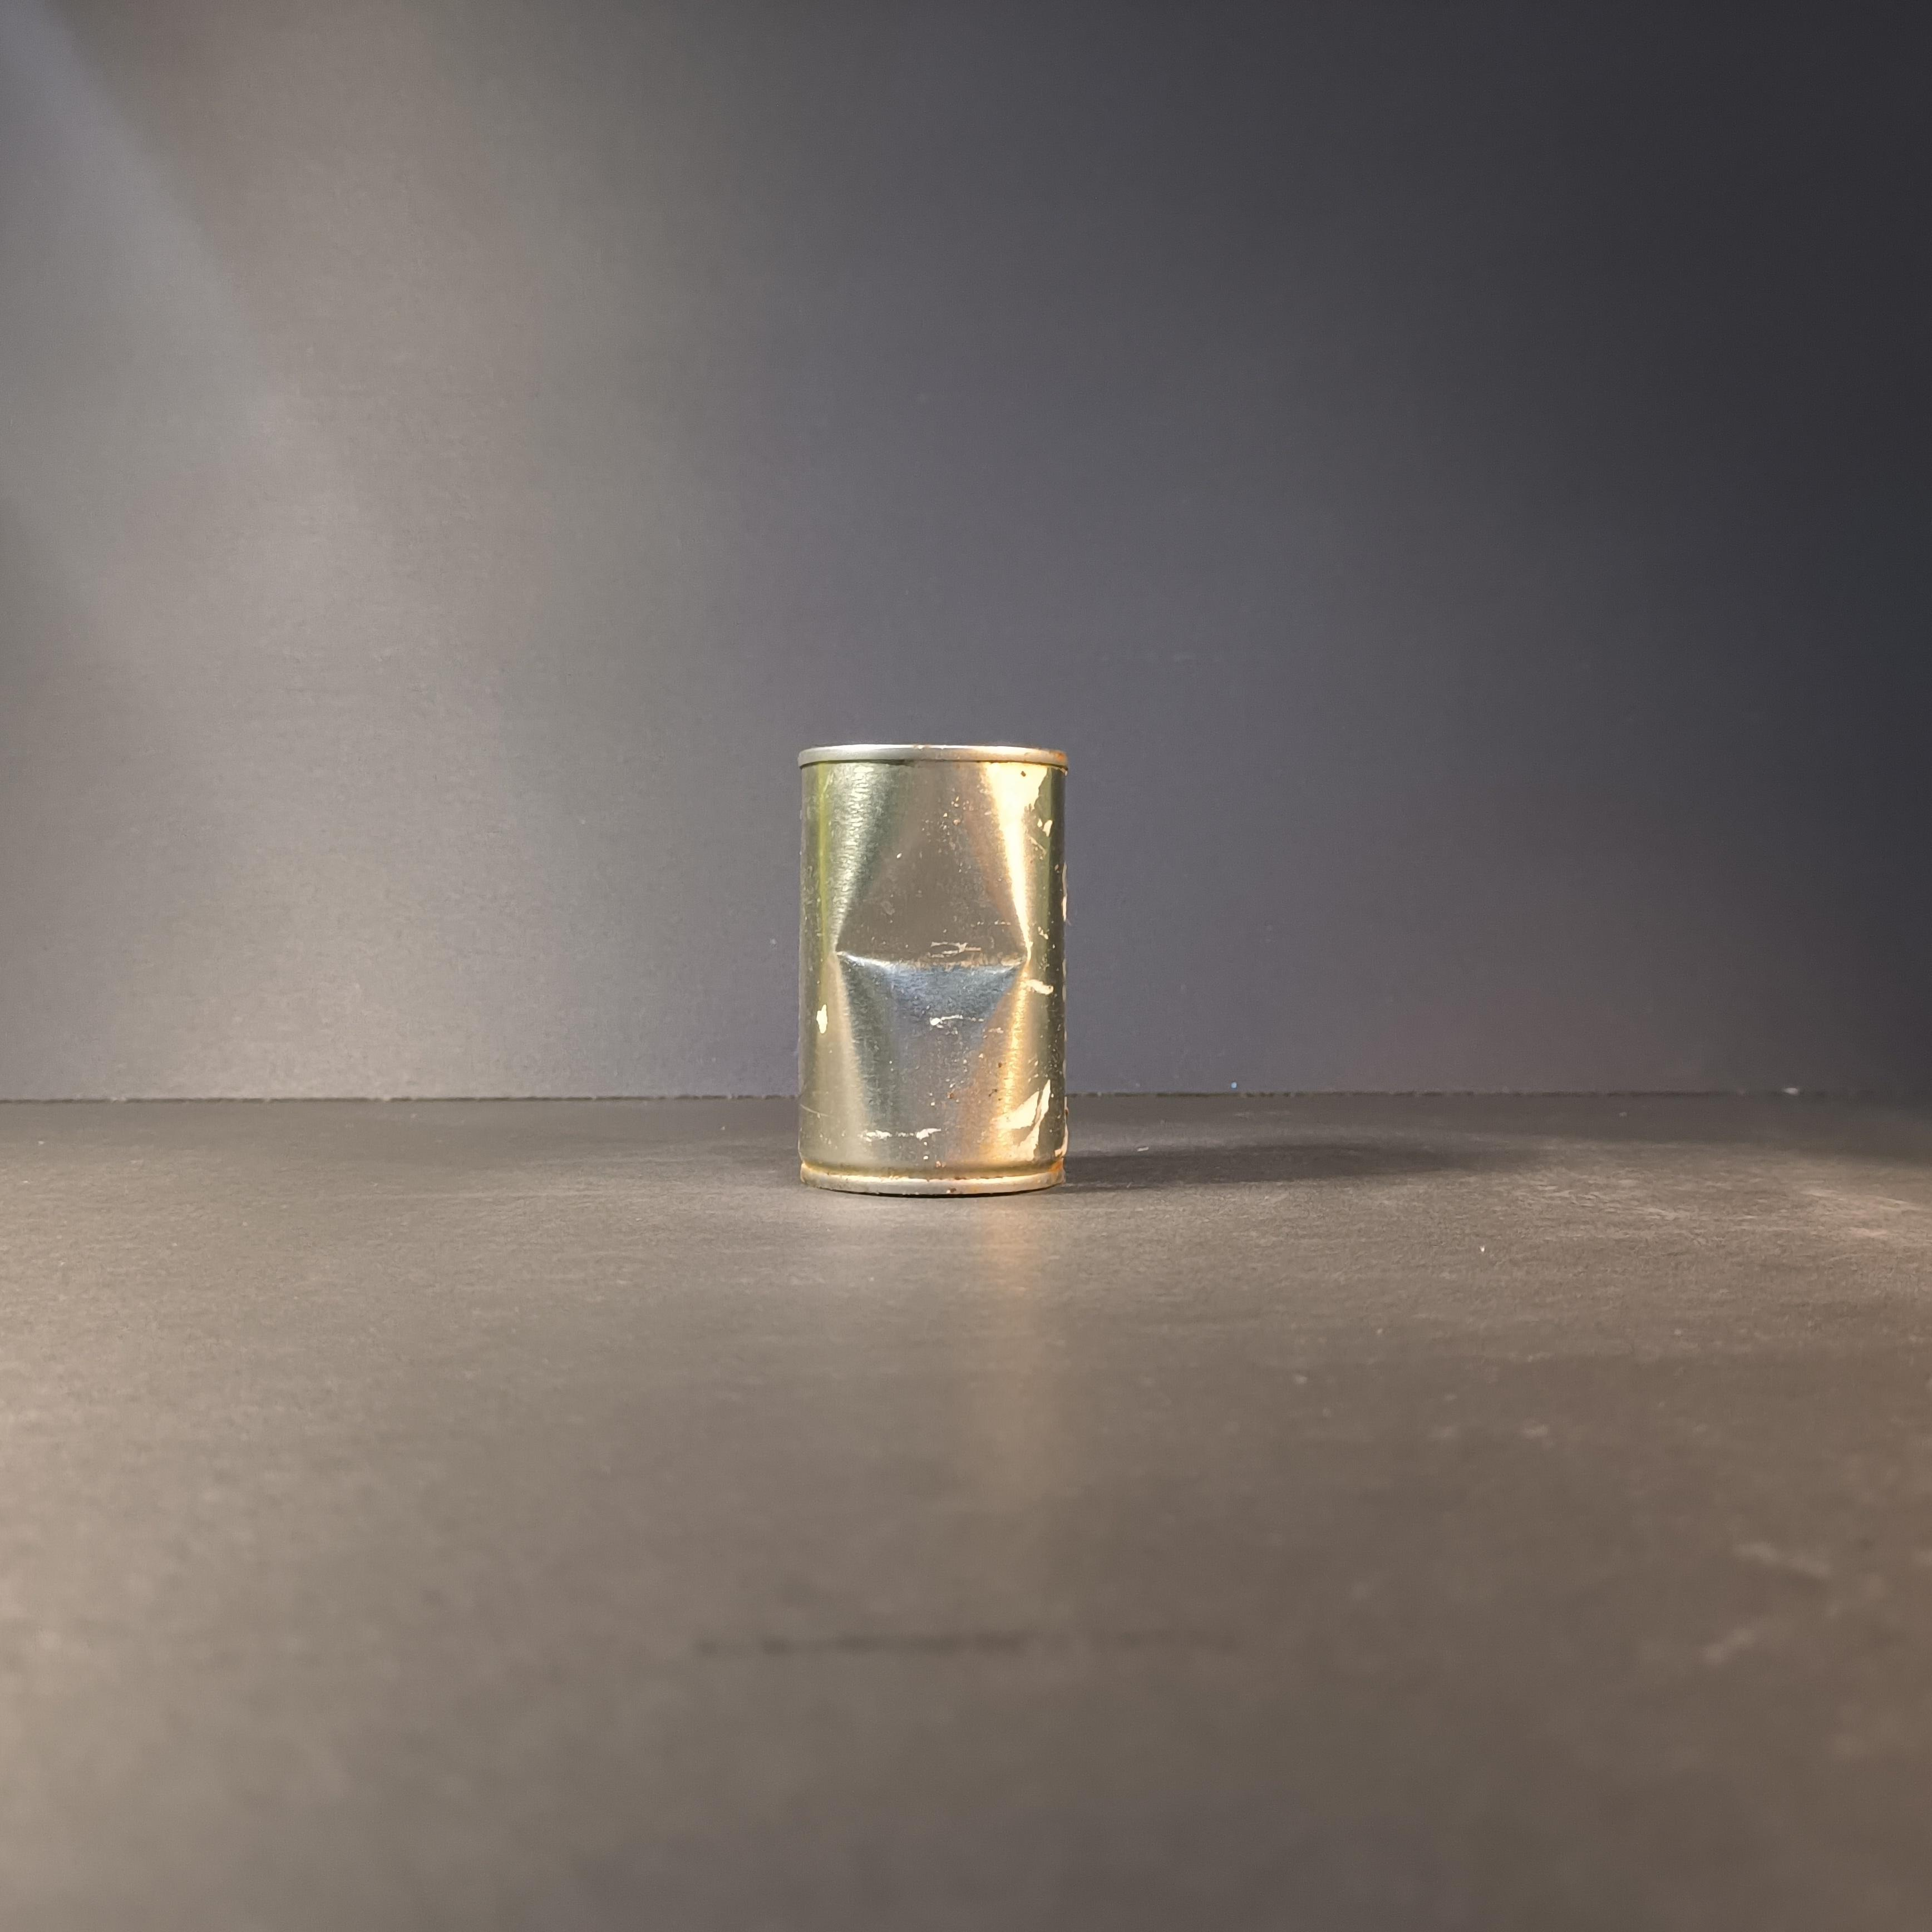Dented: (757, 715, 1090, 1215)
